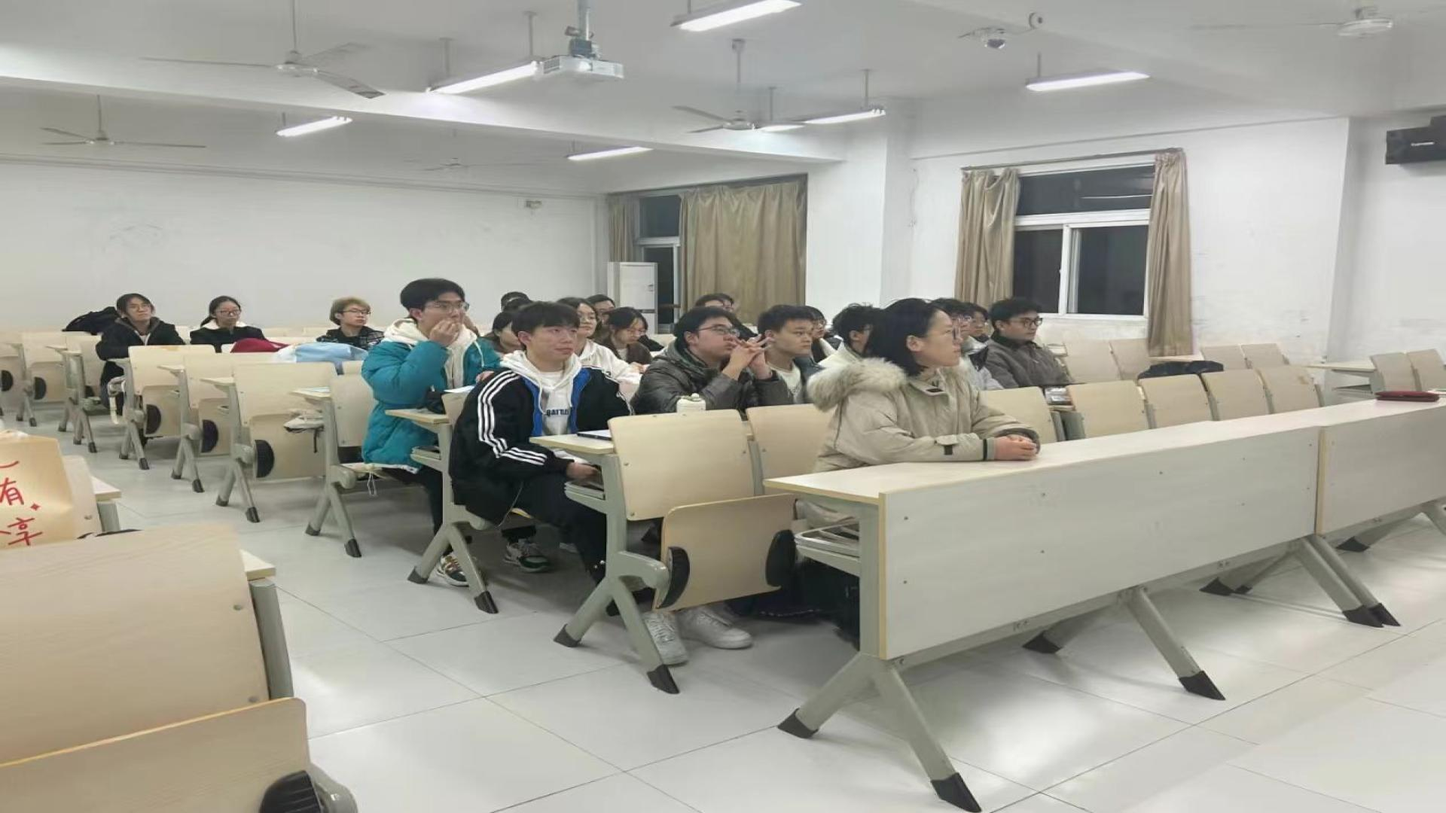Hand Under Table: (503, 442, 586, 482)
Normal: (865, 303, 1010, 456), (669, 304, 771, 403), (100, 288, 181, 353), (312, 293, 374, 337)
